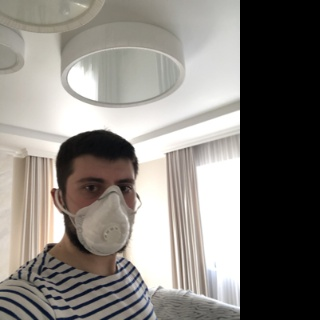with_mask: (72, 170, 136, 256)
